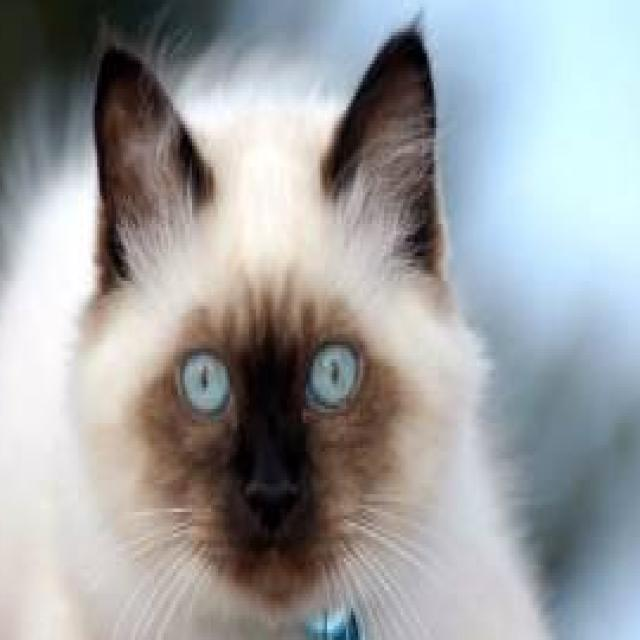Ragdoll: (0, 14, 567, 640)
